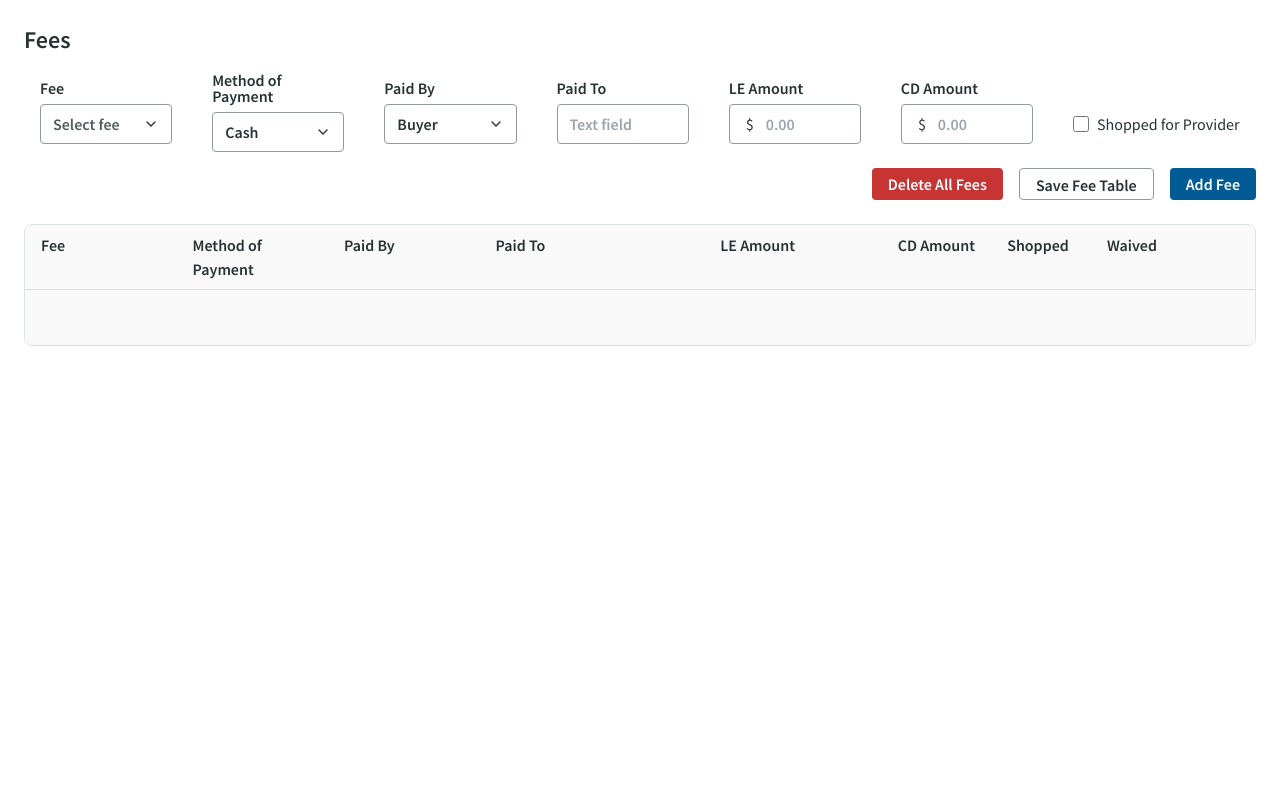
Scenario: FeesContent › flushes persisted rows, reports success, and does not imply an unadded editor was saved
Type "Not added" into the field named "Paid To" at (623, 124), box [556,104,689,144]
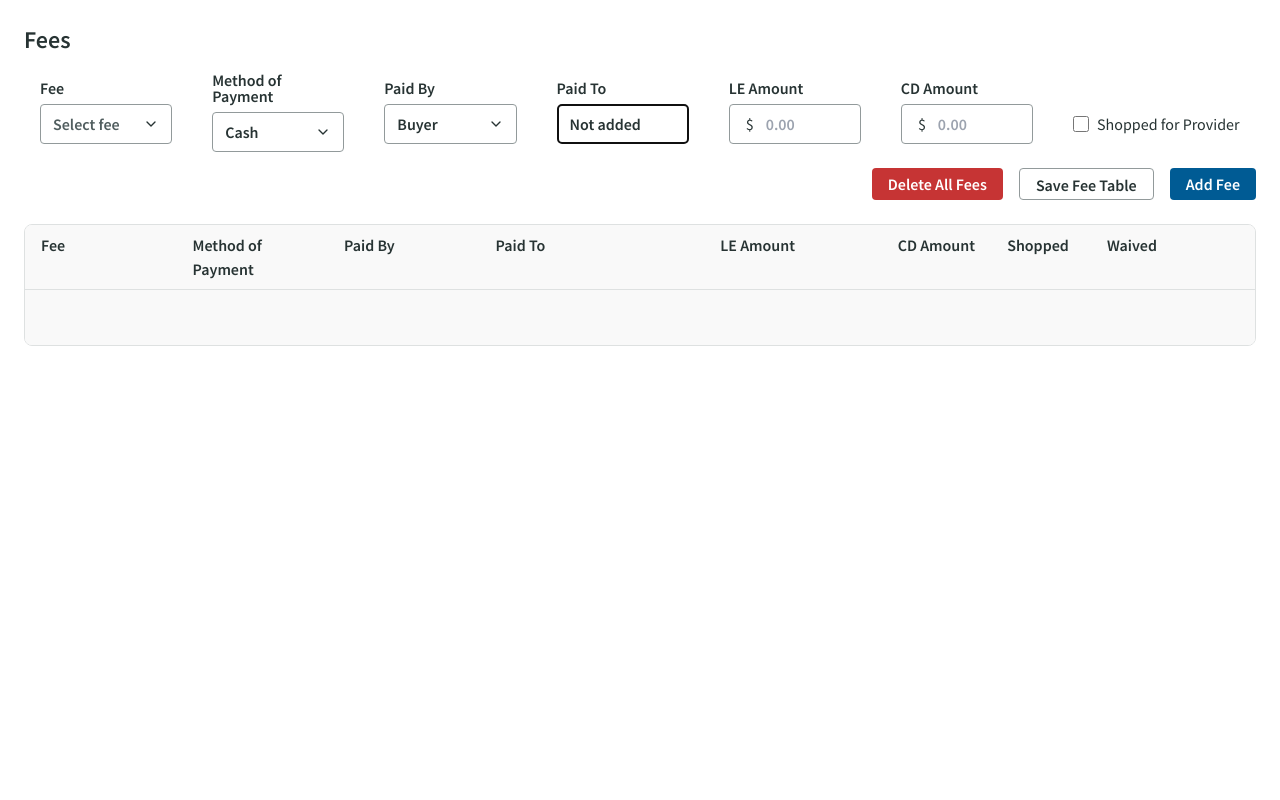
Click the button with test id "button-save-fee-table" at (1086, 184), box [1019,168,1154,200]
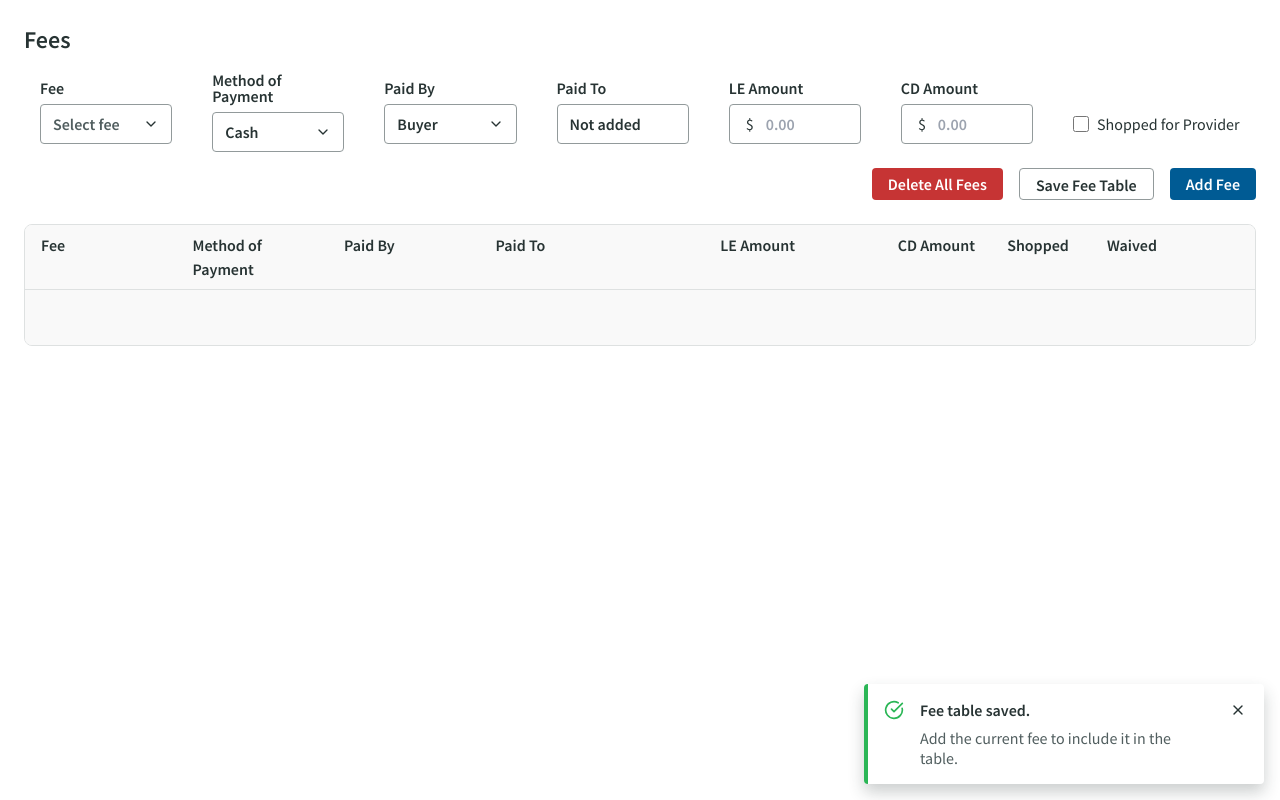
Now the message with test id "toast-success" reads "Fee table saved. Add the current fee to include it in the table.", box [864,684,1264,784]
